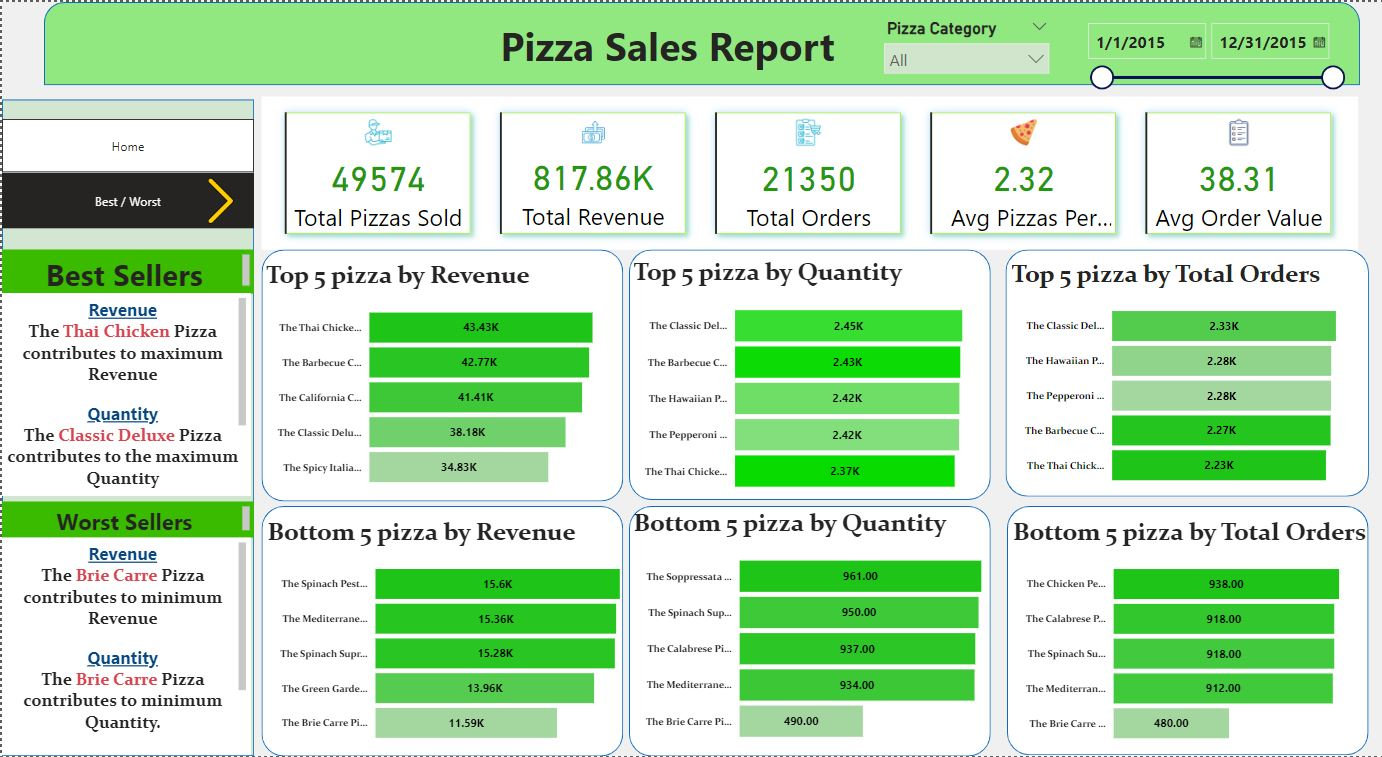

The page's visual inventory and layout, read from the dashboard file:
{"tool":"powerbi","page":{"name":"Best / Worst","canvas":[1500,820],"ordinal":1},"visuals":[{"type":"cardVisual","fields":{"Data":["pizza_sales.Total Pizzas Sold","pizza_sales.Total Revenue","pizza_sales.Total Orders","pizza_sales.Avg Pizzas Per Order","pizza_sales.Avg Order Value"]},"box":[282.1,102.2,1192.8,166.6],"z":0},{"type":"shape","box":[45.3,0,1431.1,90.6],"z":1000},{"type":"textbox","box":[442,12.7,563.4,77.9],"z":2000},{"type":"shape","box":[283,268.8,393.4,274],"z":3000},{"type":"shape","box":[0,106.8,274.1,713.8],"z":4000},{"type":"textbox","box":[0,268.8,274.1,48.1],"z":5000},{"type":"textbox","box":[0,316.9,270.6,220.7],"z":6000},{"type":"textbox","box":[0,542.9,274.1,39.2],"z":7000},{"type":"textbox","box":[0,582.1,270.6,236.7],"z":8000},{"type":"slicer","fields":{"Values":["pizza_sales.pizza_category"]},"box":[948.8,12.5,199.4,65.9],"z":9000},{"type":"slicer","fields":{"Values":["pizza_sales.order_date"]},"box":[1167.7,12.5,300.8,90.8],"z":10000},{"type":"shape","box":[1091.2,268.8,395.2,268.8],"z":11000},{"type":"shape","box":[681.8,268.8,393.4,272.4],"z":12000},{"type":"shape","box":[283,548.3,393.4,272.4],"z":13000},{"type":"shape","box":[681.8,548.3,393.4,272.4],"z":14000},{"type":"shape","box":[1092.8,548.6,393.1,271],"z":15000},{"type":"barChart","title":"Top 5 pizza by Revenue","fields":{"Y":["pizza_sales.Total Revenue"],"Category":["pizza_sales.pizza_name"]},"box":[282.1,279.9,417.6,262.1],"z":16000},{"type":"barChart","title":"Bottom 5 pizza by Revenue","fields":{"Y":["pizza_sales.Total Revenue"],"Category":["pizza_sales.pizza_name"]},"box":[283.1,558.9,436.5,261.2],"z":17000},{"type":"barChart","title":"Top 5 pizza by Quantity","fields":{"Category":["pizza_sales.pizza_name"],"Y":["pizza_sales.Total Pizzas Sold"]},"box":[681.9,277.6,408.7,271],"z":18000},{"type":"barChart","title":"Bottom 5 pizza by Quantity","fields":{"Category":["pizza_sales.pizza_name"],"Y":["pizza_sales.Total Pizzas Sold"]},"box":[681.8,550,429,270.6],"z":19000},{"type":"barChart","title":"Top 5 pizza by Total Orders","fields":{"Category":["pizza_sales.pizza_name"],"Y":["pizza_sales.Total Orders"]},"box":[1093,279.5,405.9,261.7],"z":20000},{"type":"barChart","title":"Bottom 5 pizza by Total Orders","fields":{"Category":["pizza_sales.pizza_name"],"Y":["pizza_sales.Total Orders"]},"box":[1094.7,558.9,405.9,261.7],"z":21000},{"type":"pageNavigator","box":[0,127.2,274.1,58.7],"z":22000},{"type":"pageNavigator","box":[0,186,274.1,60.4],"z":23000},{"type":"image","box":[205.5,186,65.3,60.4],"z":24000}]}

Visuals, with their boxes in screenshot pixels (x1, y1, x2, y2), scaled from the page's 1500x820 canvas onto the 1382x757 screenshot:
cardVisual - pizza_sales.Total Pizzas Sold x pizza_sales.Total Revenue: [260,94,1359,248]
shape: [42,0,1360,84]
textbox: [407,12,926,84]
shape: [261,248,623,501]
shape: [0,99,253,756]
textbox: [0,248,253,293]
textbox: [0,293,249,496]
textbox: [0,501,253,537]
textbox: [0,537,249,756]
slicer - pizza_sales.pizza_category: [874,12,1058,72]
slicer - pizza_sales.order_date: [1076,12,1353,95]
shape: [1005,248,1369,496]
shape: [628,248,991,500]
shape: [261,506,623,756]
shape: [628,506,991,756]
shape: [1007,506,1369,756]
"Top 5 pizza by Revenue" barChart: [260,258,645,500]
"Bottom 5 pizza by Revenue" barChart: [261,516,663,756]
"Top 5 pizza by Quantity" barChart: [628,256,1005,506]
"Bottom 5 pizza by Quantity" barChart: [628,508,1023,756]
"Top 5 pizza by Total Orders" barChart: [1007,258,1381,500]
"Bottom 5 pizza by Total Orders" barChart: [1009,516,1381,756]
pageNavigator: [0,117,253,172]
pageNavigator: [0,172,253,227]
image: [189,172,249,227]
